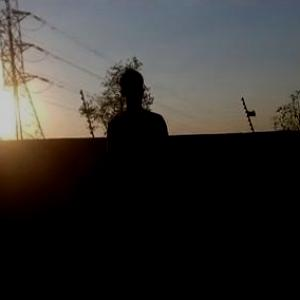follow: (100, 59, 198, 299)
